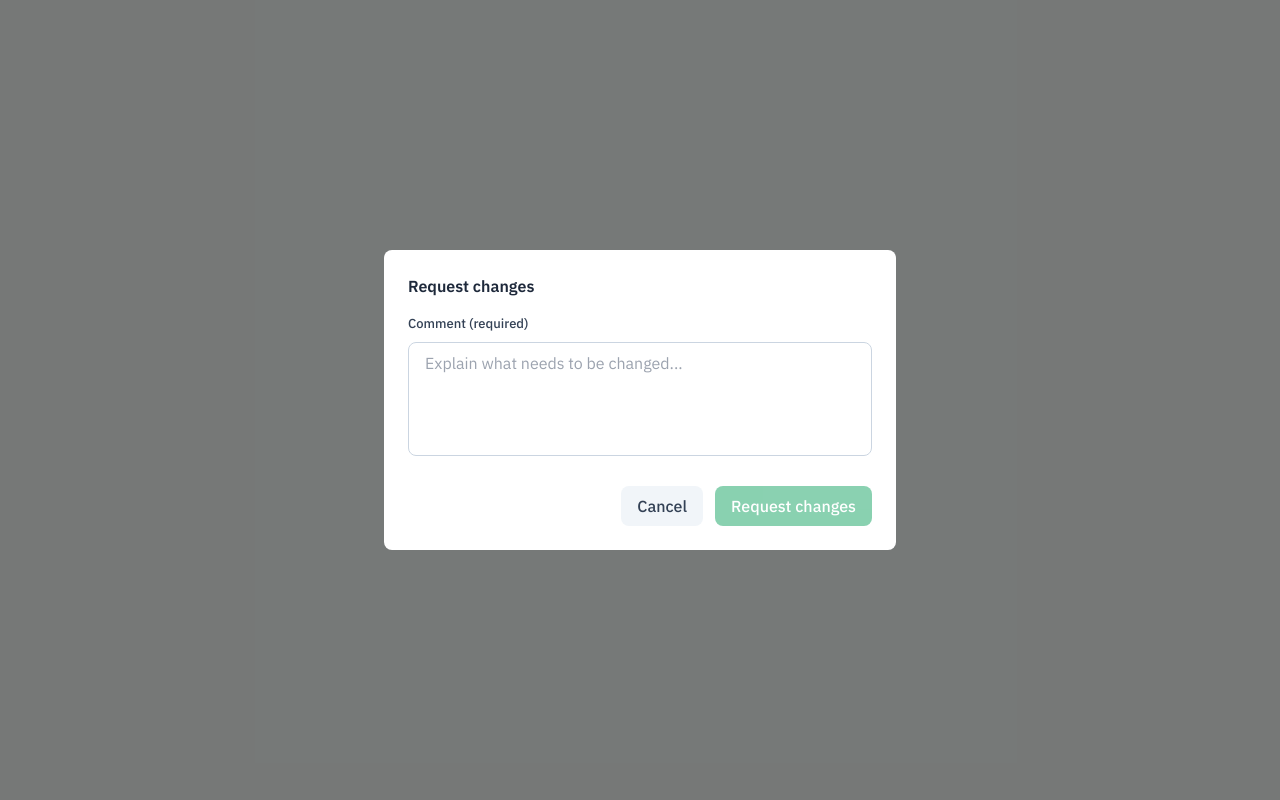
ReviewActionModal › disables the action until a required comment is typed
Check: the button "Request changes" is disabled, box x1=715 y1=486 x2=872 y2=526
Type "Please add the tools you used." into the text box.
click(640, 399); type("Please add the tools you used.")  # box x1=408 y1=342 x2=872 y2=456
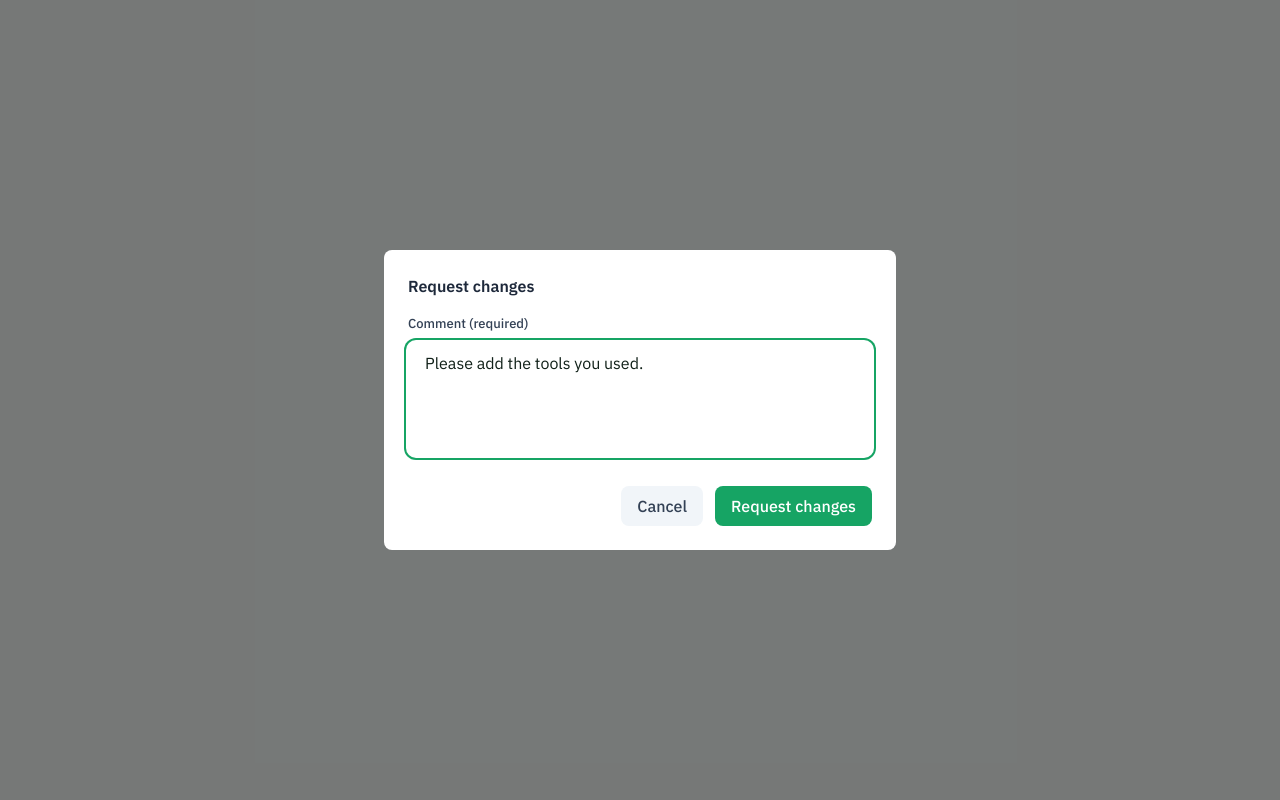
Check: the button "Request changes" is enabled, box x1=715 y1=486 x2=872 y2=526
